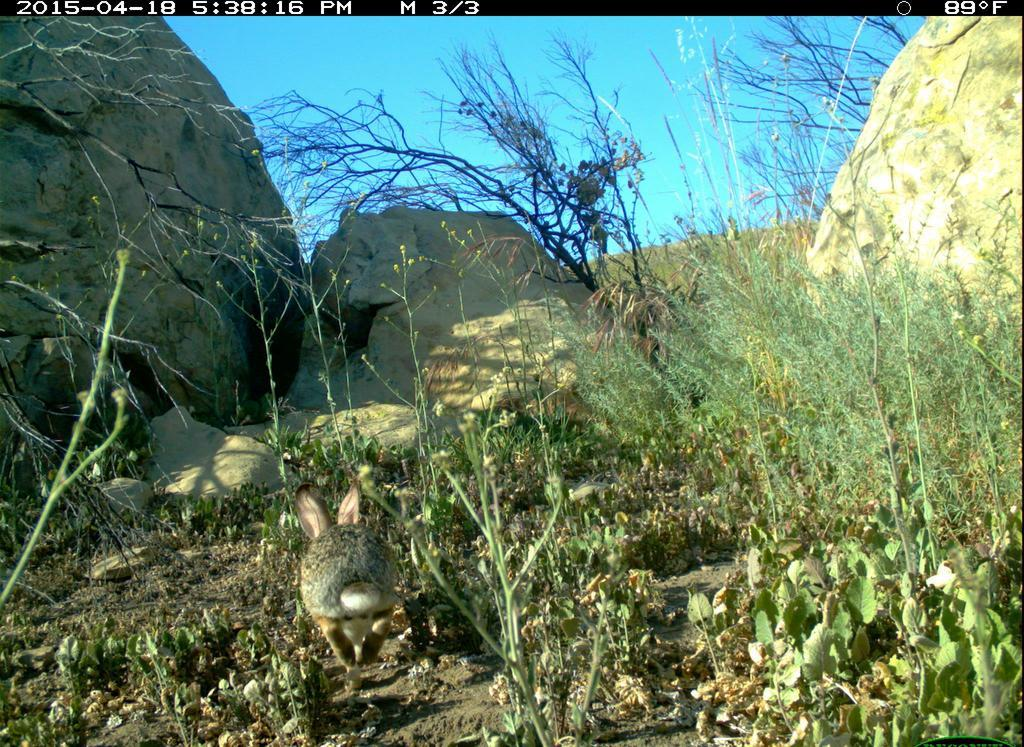rabbit: (278, 472, 408, 707)
